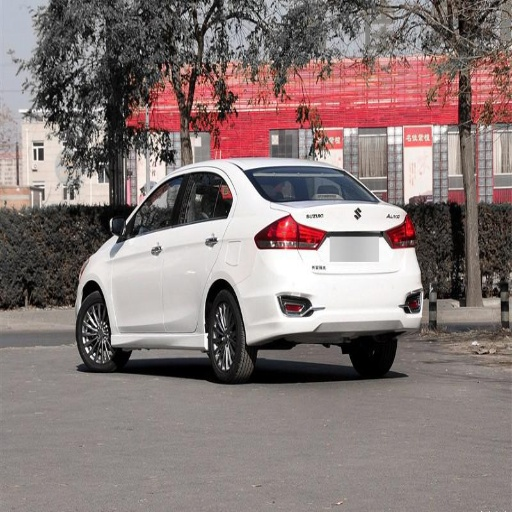back_bumper: (241, 249, 423, 345)
back_glass: (245, 167, 376, 202)
back_left_door: (164, 169, 229, 332)
tailgate: (290, 202, 400, 272)
trunk: (295, 235, 400, 276)
